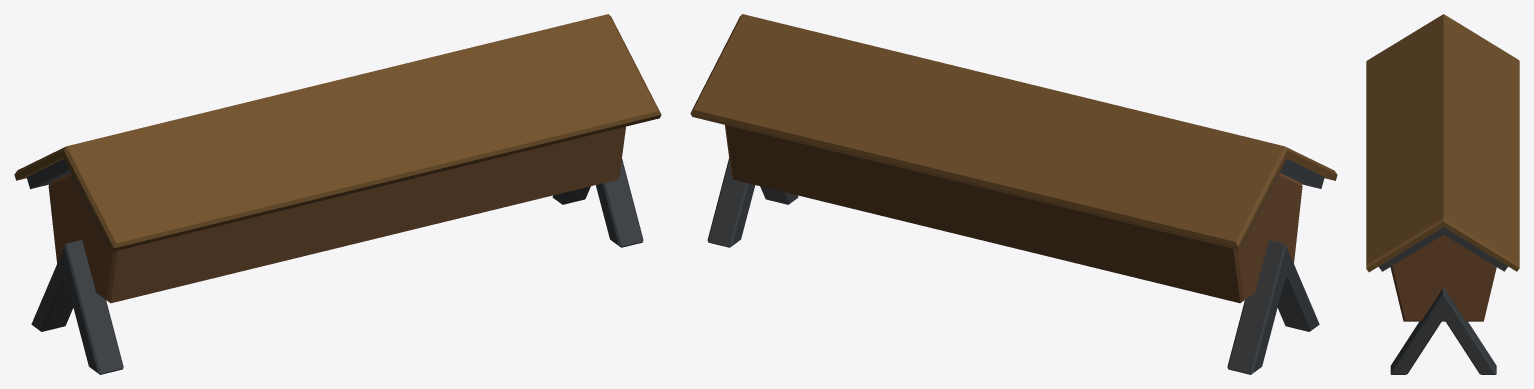
File: littlefoodholder_a.gltf
The picture shows the model from 3 angles, left to right: view 1: azimuth 30°, elevation 25°; view 2: azimuth 150°, elevation 25°; view 3: azimuth 270°, elevation 25°; orthographic projection. The views are drawn at different scales.
Visible parts, largest first — view 1: littlefoodholder_a001; view 2: littlefoodholder_a001; view 3: littlefoodholder_a001.
Part boxes in pixels (x1,y1,x2,y2): littlefoodholder_a001: [14, 14, 661, 374]; littlefoodholder_a001: [690, 14, 1337, 374]; littlefoodholder_a001: [1366, 14, 1519, 374].
Size of the model in its own units: 1.97 by 0.6996 by 0.6201.
1 material, 1 textured.
